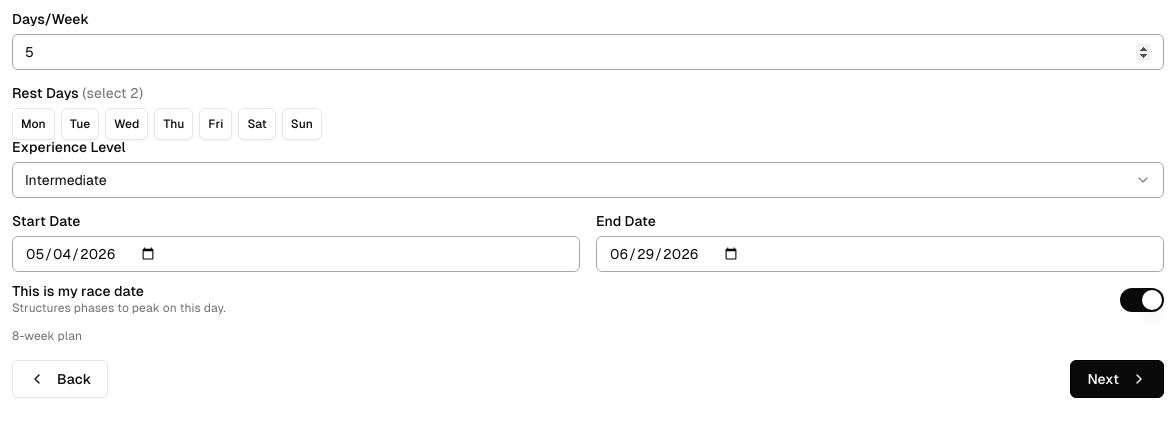
GeneratePlanScheduleStep days per week › holds an out-of-range entry without committing it, and restores the value on blur
Type "3" into the number field labelled "Days/Week" at (588, 52), box 12,34 -> 1164,70
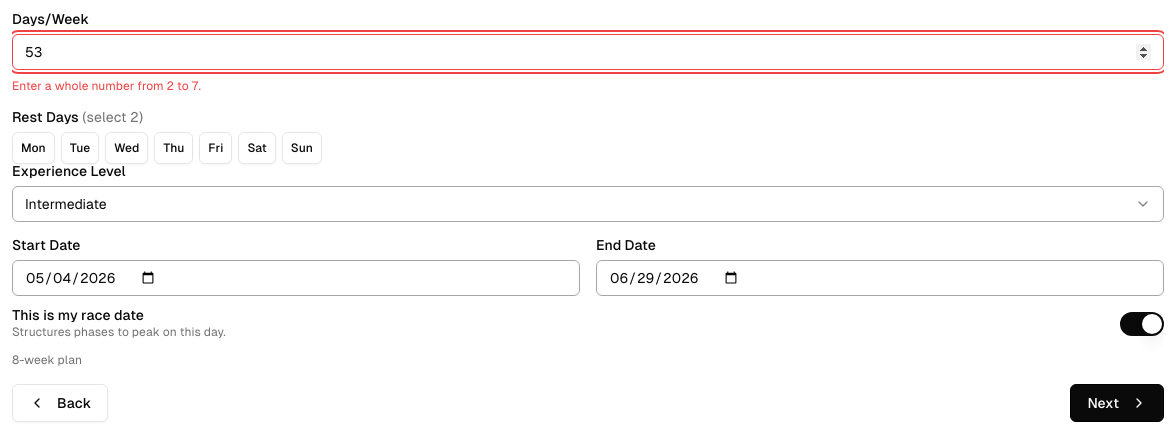
Expected: the number field labelled "Days/Week" holds "53", 12,34 -> 1164,70
Expected: the text "Enter a whole number from 2 to 7." is shown, 12,79 -> 201,93
Press Tab
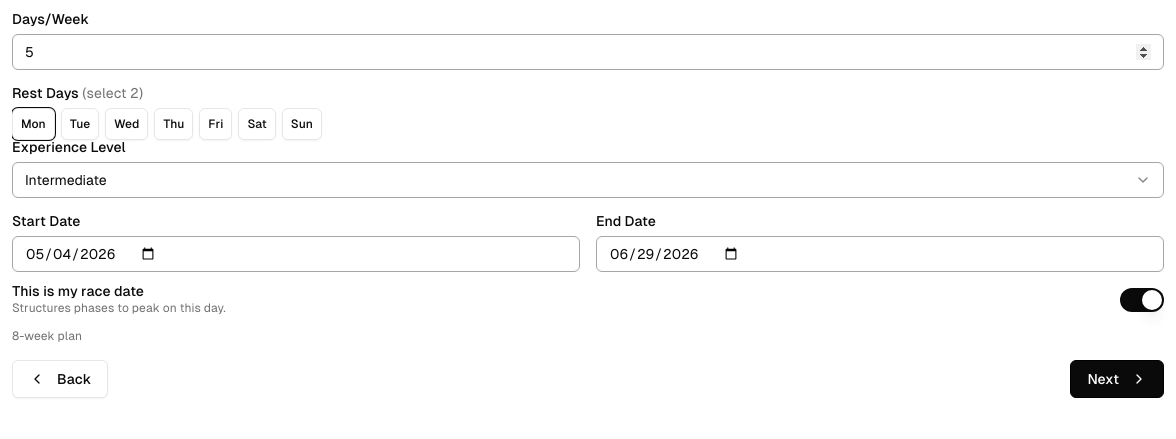
Expected: the number field labelled "Days/Week" holds "5", 12,34 -> 1164,70
Expected: the text "Enter a whole number from 2 to 7." is gone
